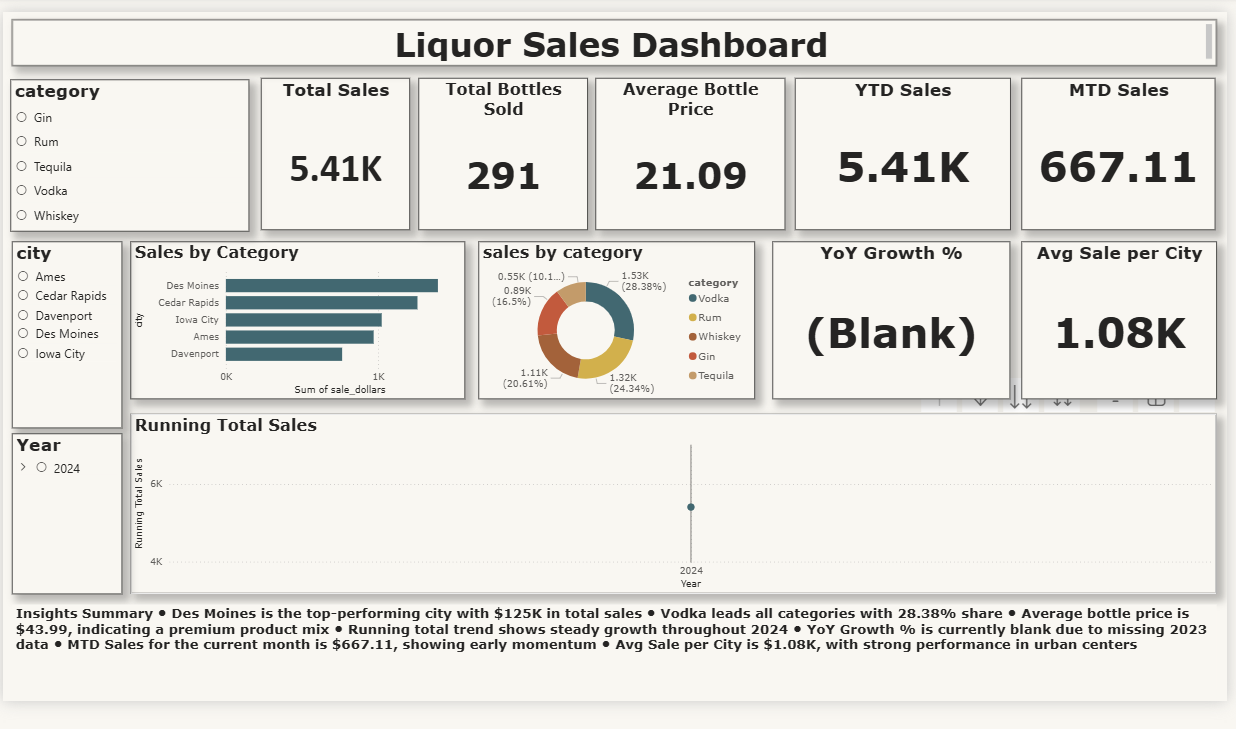

The page's visual inventory and layout, read from the dashboard file:
{"tool":"powerbi","page":{"name":"Page 1","canvas":[1600,900],"ordinal":0},"visuals":[{"type":"card","title":"Total Sales","fields":{"Values":["Sum(public liquor_sales.sale_dollars)"]},"box":[336.9,87.1,195,198.7],"z":0},{"type":"clusteredBarChart","title":"Sales by Category","fields":{"Category":["public liquor_sales.city"],"Y":["Sum(public liquor_sales.sale_dollars)"]},"box":[166.6,300.9,437.2,206.3],"z":1000},{"type":"listSlicer","fields":{"Values":["public liquor_sales.category"]},"box":[10.6,87.8,311.9,198.4],"z":2000},{"type":"donutChart","title":"sales by category","fields":{"Category":["public liquor_sales.category"],"Y":["public liquor_sales.Total_sales"]},"box":[620.8,300.9,361.5,206.3],"z":3000},{"type":"lineChart","title":" Running Total Sales","fields":{"Category":["public liquor_sales.date.Variation.Date Hierarchy.Year","public liquor_sales.date.Variation.Date Hierarchy.Quarter","public liquor_sales.date.Variation.Date Hierarchy.Month","public liquor_sales.date.Variation.Date Hierarchy.Day"],"Y":["public liquor_sales.Running Total Sales"]},"box":[166.6,526.2,1419.6,234.7],"z":4000},{"type":"textbox","box":[11.4,9.5,1574.8,60.6],"z":5000},{"type":"card","title":" Total Bottles Sold","fields":{"Values":["public liquor_sales.Total Bottle Sold"]},"box":[543.2,87.1,221.5,198.7],"z":6000},{"type":"card","title":"Average Bottle Price","fields":{"Values":["public liquor_sales.Average Bottle Price"]},"box":[774.1,87.1,248,198.7],"z":7000},{"type":"listSlicer","fields":{"Values":["public liquor_sales.city"]},"box":[11.4,299.1,143.8,244.2],"z":8000},{"type":"listSlicer","fields":{"Values":["public liquor_sales.date.Variation.Date Hierarchy.Year","public liquor_sales.date.Variation.Date Hierarchy.Quarter","public liquor_sales.date.Variation.Date Hierarchy.Month","public liquor_sales.date.Variation.Date Hierarchy.Day"]},"box":[11.4,550.8,143.8,210.1],"z":9000},{"type":"card","title":"YTD Sales","fields":{"Values":["public liquor_sales.YTD Sales"]},"box":[1035.3,87.1,282,198.7],"z":10000},{"type":"card","title":"MTD Sales","fields":{"Values":["public liquor_sales.MTD Sales"]},"box":[1330.6,87.1,253.6,198.7],"z":11000},{"type":"card","title":"YoY Growth %","fields":{"Values":["public liquor_sales.YoY Growth %"]},"box":[1005.1,300.9,310.4,206.3],"z":12000},{"type":"card","title":"Avg Sale per City","fields":{"Values":["public liquor_sales.Avg Sale per City"]},"box":[1330.6,300.9,255.5,206.3],"z":13000},{"type":"textbox","title":"Insights Summary •     \tDes Moines is the top-performing city with $125K in total sales • \tVodka leads all categories with 28.38% share • \tAverage bottle price is $43.99, indicating a premium product ","box":[11.4,774.1,1574.8,109.8],"z":13001}]}

Visuals, with their boxes in screenshot pixels (x1, y1, x2, y2):
"Total Sales" card: select_region(260, 92, 408, 243)
"Sales by Category" clusteredBarChart: select_region(130, 255, 463, 412)
listSlicer - public liquor_sales.category: select_region(11, 93, 249, 244)
"sales by category" donutChart: select_region(476, 255, 752, 412)
" Running Total Sales" lineChart: select_region(130, 427, 1212, 605)
textbox: select_region(12, 33, 1212, 79)
" Total Bottles Sold" card: select_region(417, 92, 586, 243)
"Average Bottle Price" card: select_region(593, 92, 782, 243)
listSlicer - public liquor_sales.city: select_region(12, 254, 121, 440)
listSlicer - public liquor_sales.date.Variation.Date Hierarchy.Year x public liquor_sales.date.Variation.Date Hierarchy.Quarter: select_region(12, 445, 121, 605)
"YTD Sales" card: select_region(792, 92, 1007, 243)
"MTD Sales" card: select_region(1017, 92, 1210, 243)
"YoY Growth %" card: select_region(769, 255, 1005, 412)
"Avg Sale per City" card: select_region(1017, 255, 1212, 412)
"Insights Summary •     	Des Moines is the top-performing city with $125K in total sales • 	Vodka leads all categories with 28.38% share • 	Average bottle price is $43.99, indicating a premium product " textbox: select_region(12, 615, 1212, 699)
